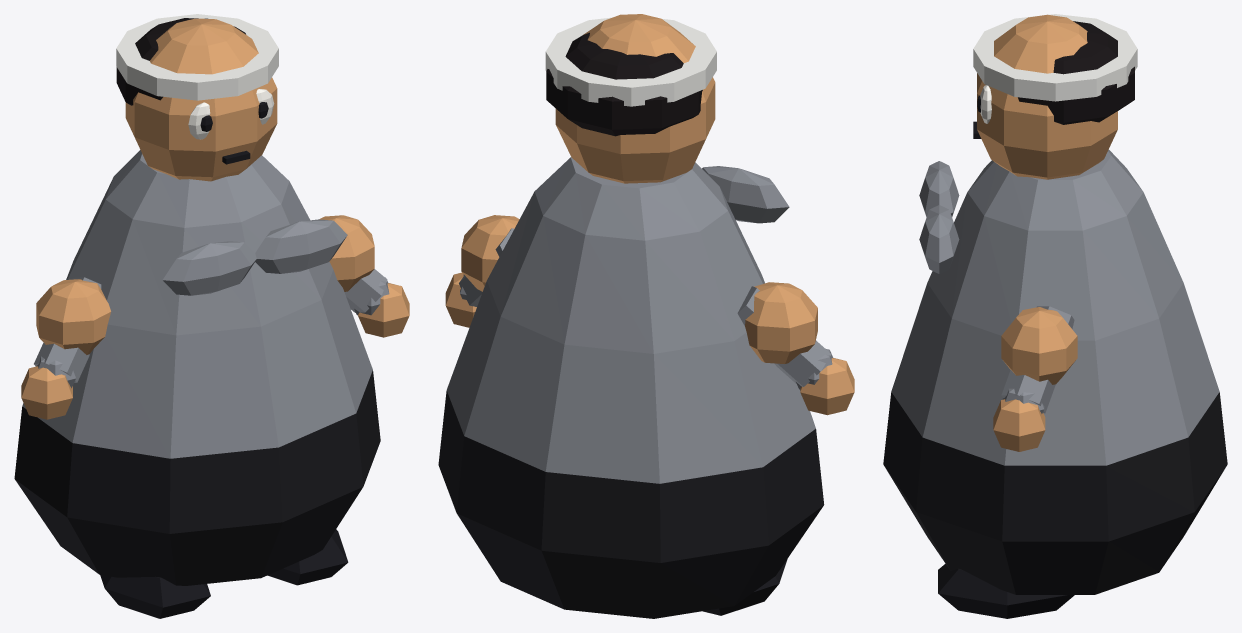
Rendered from npc_socio.glb.
The picture shows the model from 3 angles, left to right: view 1: azimuth 30°, elevation 25°; view 2: azimuth 150°, elevation 25°; view 3: azimuth 270°, elevation 25°; orthographic projection. The views are drawn at different scales.
Parts seen in each view (by area): view 1: body_tank_grey, body_shorts_black, head_skin_arena, arms_skin_arena, cap_sweatband_white, legs_black, arms_tank_grey, head_hair_black, face_white, face_black; view 2: body_tank_grey, body_shorts_black, head_skin_arena, arms_skin_arena, head_hair_black, cap_sweatband_white, arms_tank_grey, legs_black; view 3: body_tank_grey, body_shorts_black, head_skin_arena, arms_skin_arena, cap_sweatband_white, head_hair_black, legs_black, arms_tank_grey.
Part boxes in pixels (x1,y1,x2,y2): body_tank_grey: [22, 150, 372, 458]; body_shorts_black: [14, 370, 380, 585]; head_skin_arena: [125, 18, 277, 181]; arms_skin_arena: [21, 215, 409, 419]; cap_sweatband_white: [116, 14, 278, 100]; legs_black: [100, 529, 348, 618]; arms_tank_grey: [34, 269, 389, 388]; head_hair_black: [116, 18, 245, 105]; face_white: [188, 89, 274, 139]; face_black: [200, 102, 268, 164]; body_tank_grey: [446, 157, 815, 483]; body_shorts_black: [438, 391, 824, 618]; head_skin_arena: [555, 14, 715, 183]; arms_skin_arena: [445, 215, 854, 415]; head_hair_black: [546, 32, 702, 136]; cap_sweatband_white: [545, 17, 716, 106]; arms_tank_grey: [459, 228, 833, 389]; legs_black: [703, 559, 787, 615]; body_tank_grey: [891, 149, 1219, 465]; body_shorts_black: [883, 392, 1227, 594]; head_skin_arena: [977, 14, 1117, 179]; arms_skin_arena: [993, 307, 1077, 451]; cap_sweatband_white: [973, 14, 1137, 101]; head_hair_black: [1018, 21, 1134, 124]; legs_black: [938, 564, 1074, 618]; arms_tank_grey: [1001, 306, 1074, 413].
Size of the model in its own units: 1.13 by 1.53 by 0.86.
